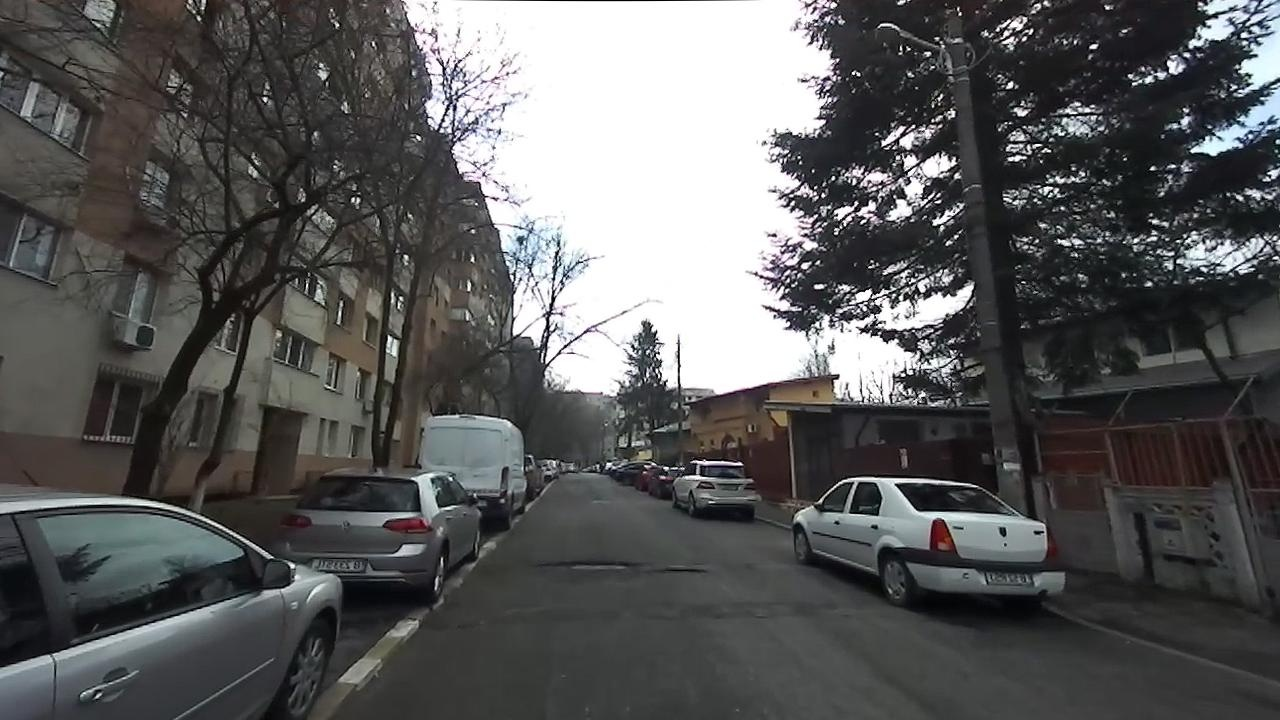pothole: (531, 558, 635, 578), (649, 565, 706, 576)
